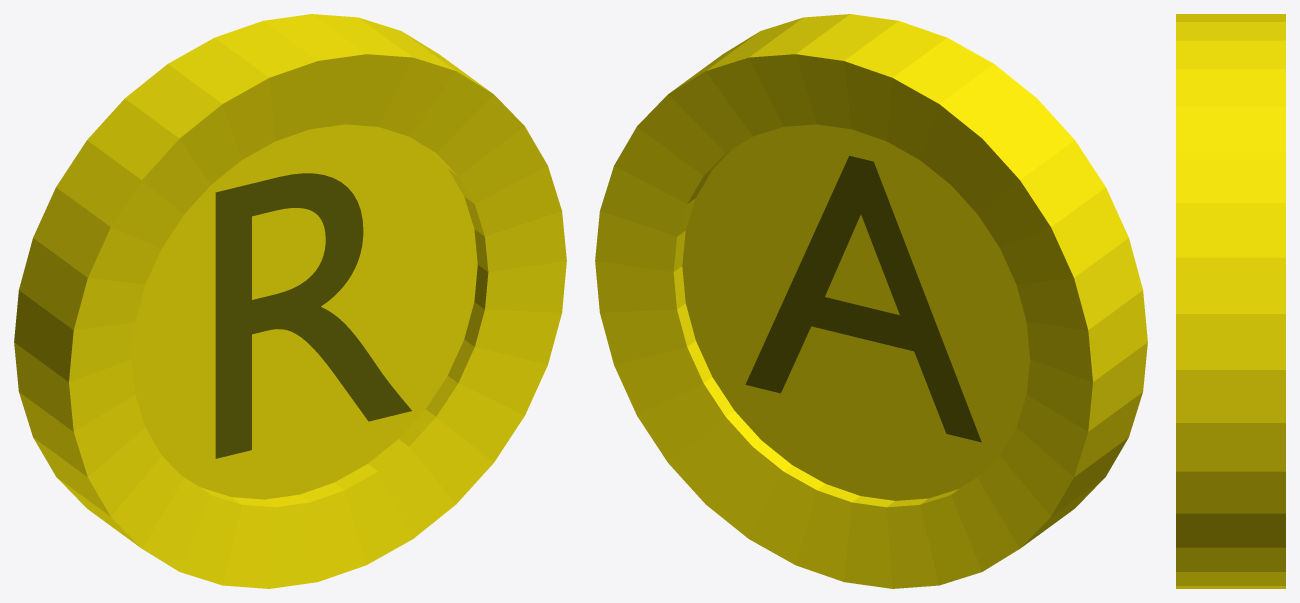
The model's file is moneda.fbx.
The picture shows the model from 3 angles, left to right: view 1: azimuth 30°, elevation 25°; view 2: azimuth 150°, elevation 25°; view 3: azimuth 270°, elevation 25°; orthographic projection.
Parts seen in each view (by area): view 1: Circle, Circle.001, Text.001; view 2: Circle, Circle.001, Text; view 3: Circle.
Part boxes in pixels (bbox=[...]): Circle: bbox=[14, 14, 566, 588]; Circle.001: bbox=[132, 124, 477, 499]; Text.001: bbox=[215, 173, 411, 458]; Circle: bbox=[595, 14, 1147, 588]; Circle.001: bbox=[682, 124, 1029, 500]; Text: bbox=[745, 155, 981, 442]; Circle: bbox=[1176, 14, 1285, 588].
Size of the model in its own units: 7.43 by 7.43 by 1.42.
